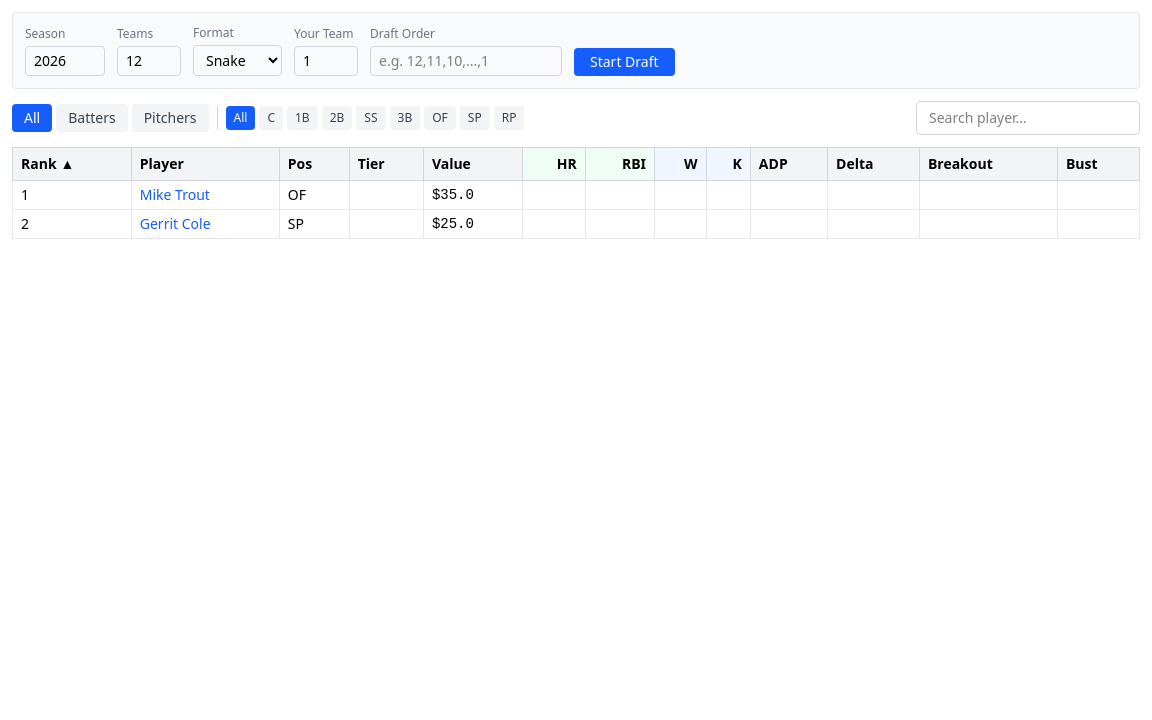
Test: DraftDashboard › starts a session and shows sidebar panels
Click the button "Start Draft" at (624, 62), box [574,48,674,76]
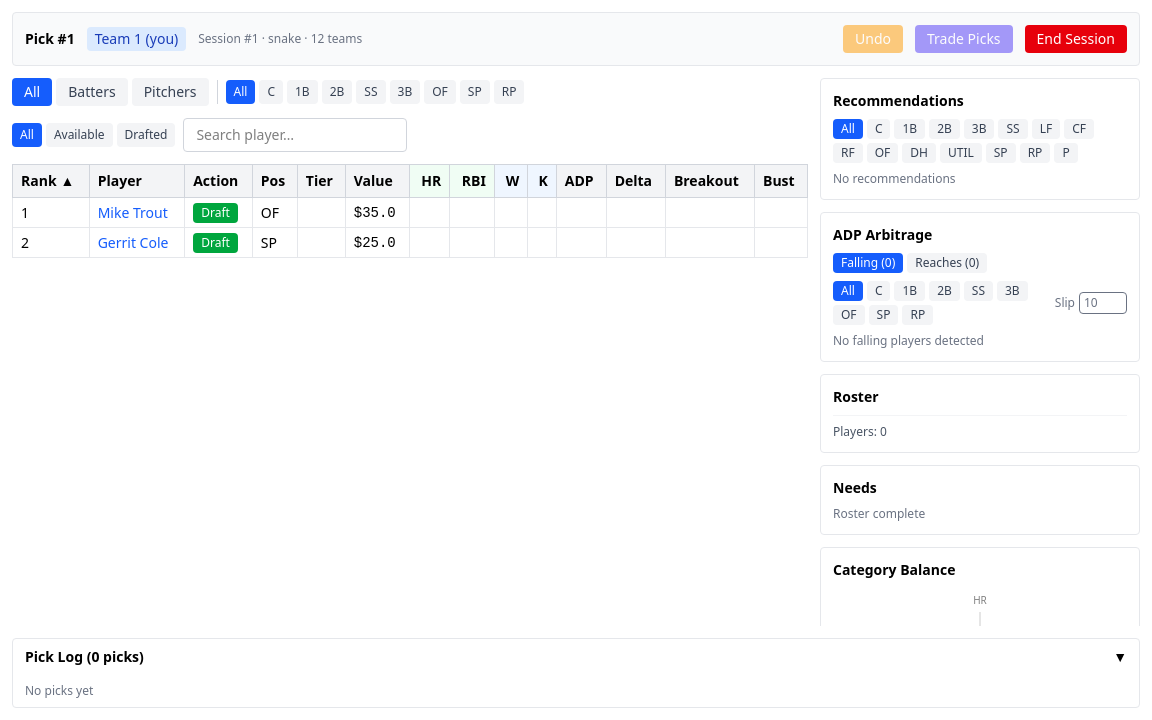
Expected: the text "Pick #1" is shown, [25,29,75,49]
Expected: the heading "Recommendations" is shown, [833,91,964,110]
Expected: the heading "Roster" is shown, [833,387,879,406]
